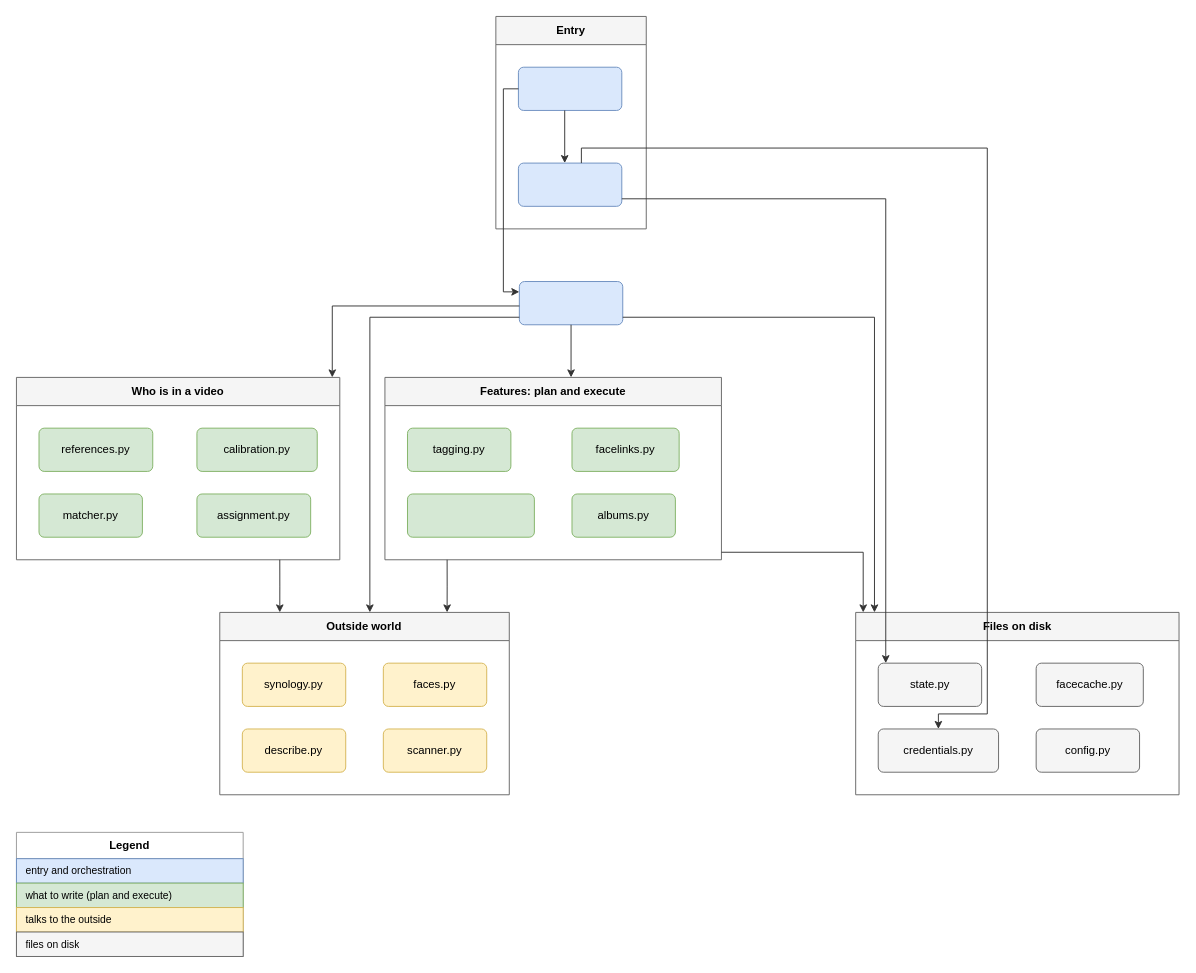
This 1196x973 diagram has some shape labels left out. The centre of each missing label's shape, as x and y in pixels:
"admin.py" goes at (569,184).
"cli.py" goes at (569,88).
"descriptions.py" goes at (470,515).
"pipeline.py" goes at (570,303).
